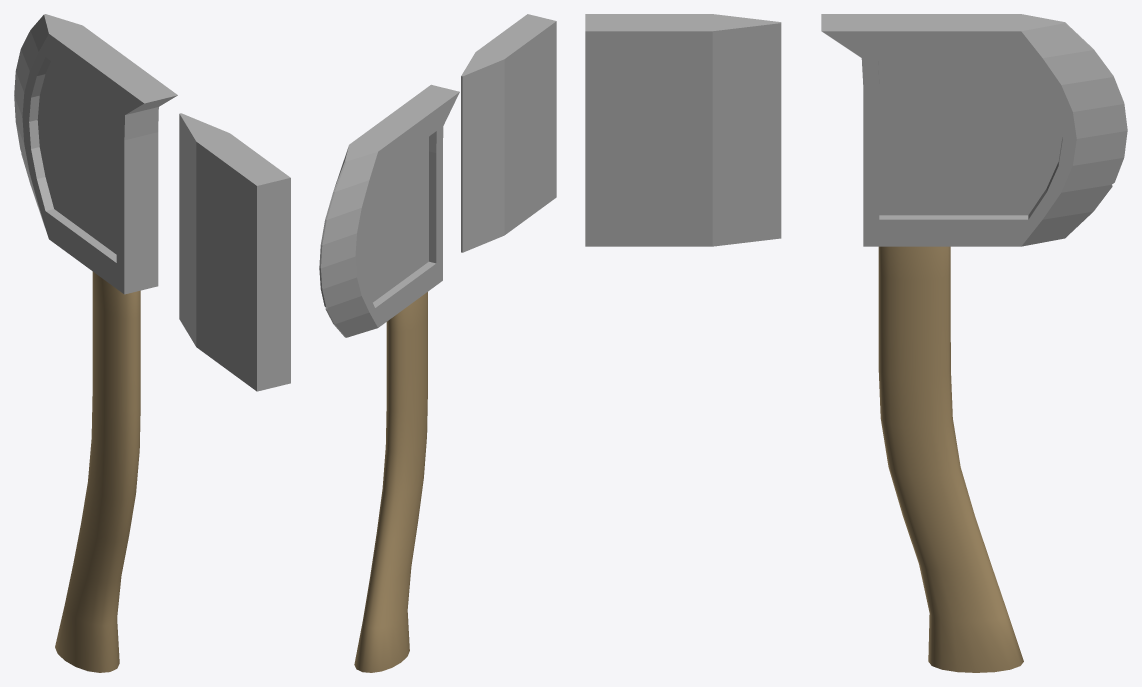
Rendered from axe.glb.
The picture shows the model from 3 angles, left to right: view 1: azimuth 30°, elevation 25°; view 2: azimuth 150°, elevation 25°; view 3: azimuth 270°, elevation 25°; orthographic projection. The views are drawn at different scales.
Parts seen in each view (by area): view 1: Cube.001, Cube, Cylinder; view 2: Cube.001, Cube, Cylinder; view 3: Cube.001, Cube, Cylinder.
Boxes of the visible parts, x1,y1,x2,y2 form: Cube.001: (14, 14, 177, 294); Cube: (179, 113, 290, 391); Cylinder: (55, 271, 140, 672); Cube.001: (319, 84, 459, 337); Cube: (461, 14, 556, 252); Cylinder: (354, 292, 427, 672); Cube.001: (821, 14, 1127, 246); Cube: (585, 14, 781, 246); Cylinder: (878, 246, 1023, 672).
Size of the model in its own units: 1.17 by 15.22 by 11.71.
